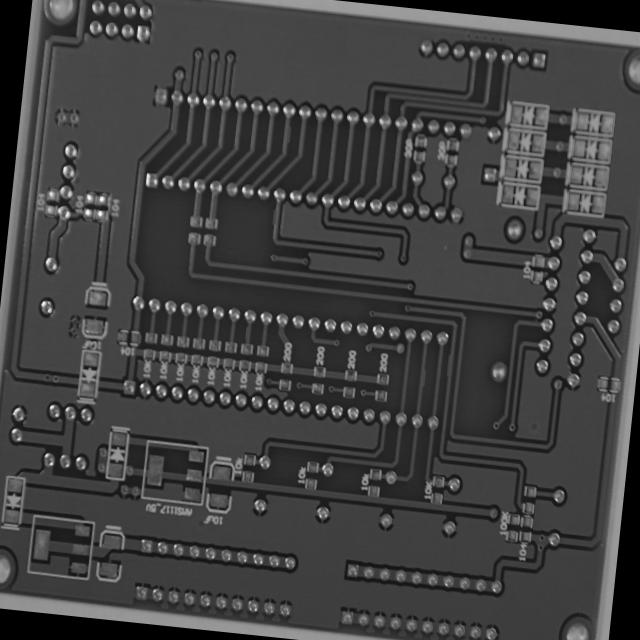spur: (442, 348, 456, 378), (280, 123, 294, 146), (268, 204, 280, 228), (418, 366, 430, 389), (242, 322, 253, 342)
